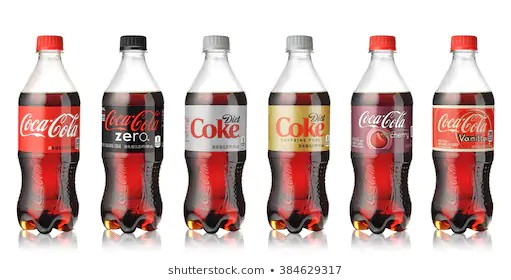coke-bottle-700ml: (12, 16, 82, 241)
coke-diet/zero-bottle-700ml: (179, 32, 252, 238), (263, 31, 331, 242), (429, 33, 500, 233), (347, 32, 416, 236), (101, 28, 167, 237)
